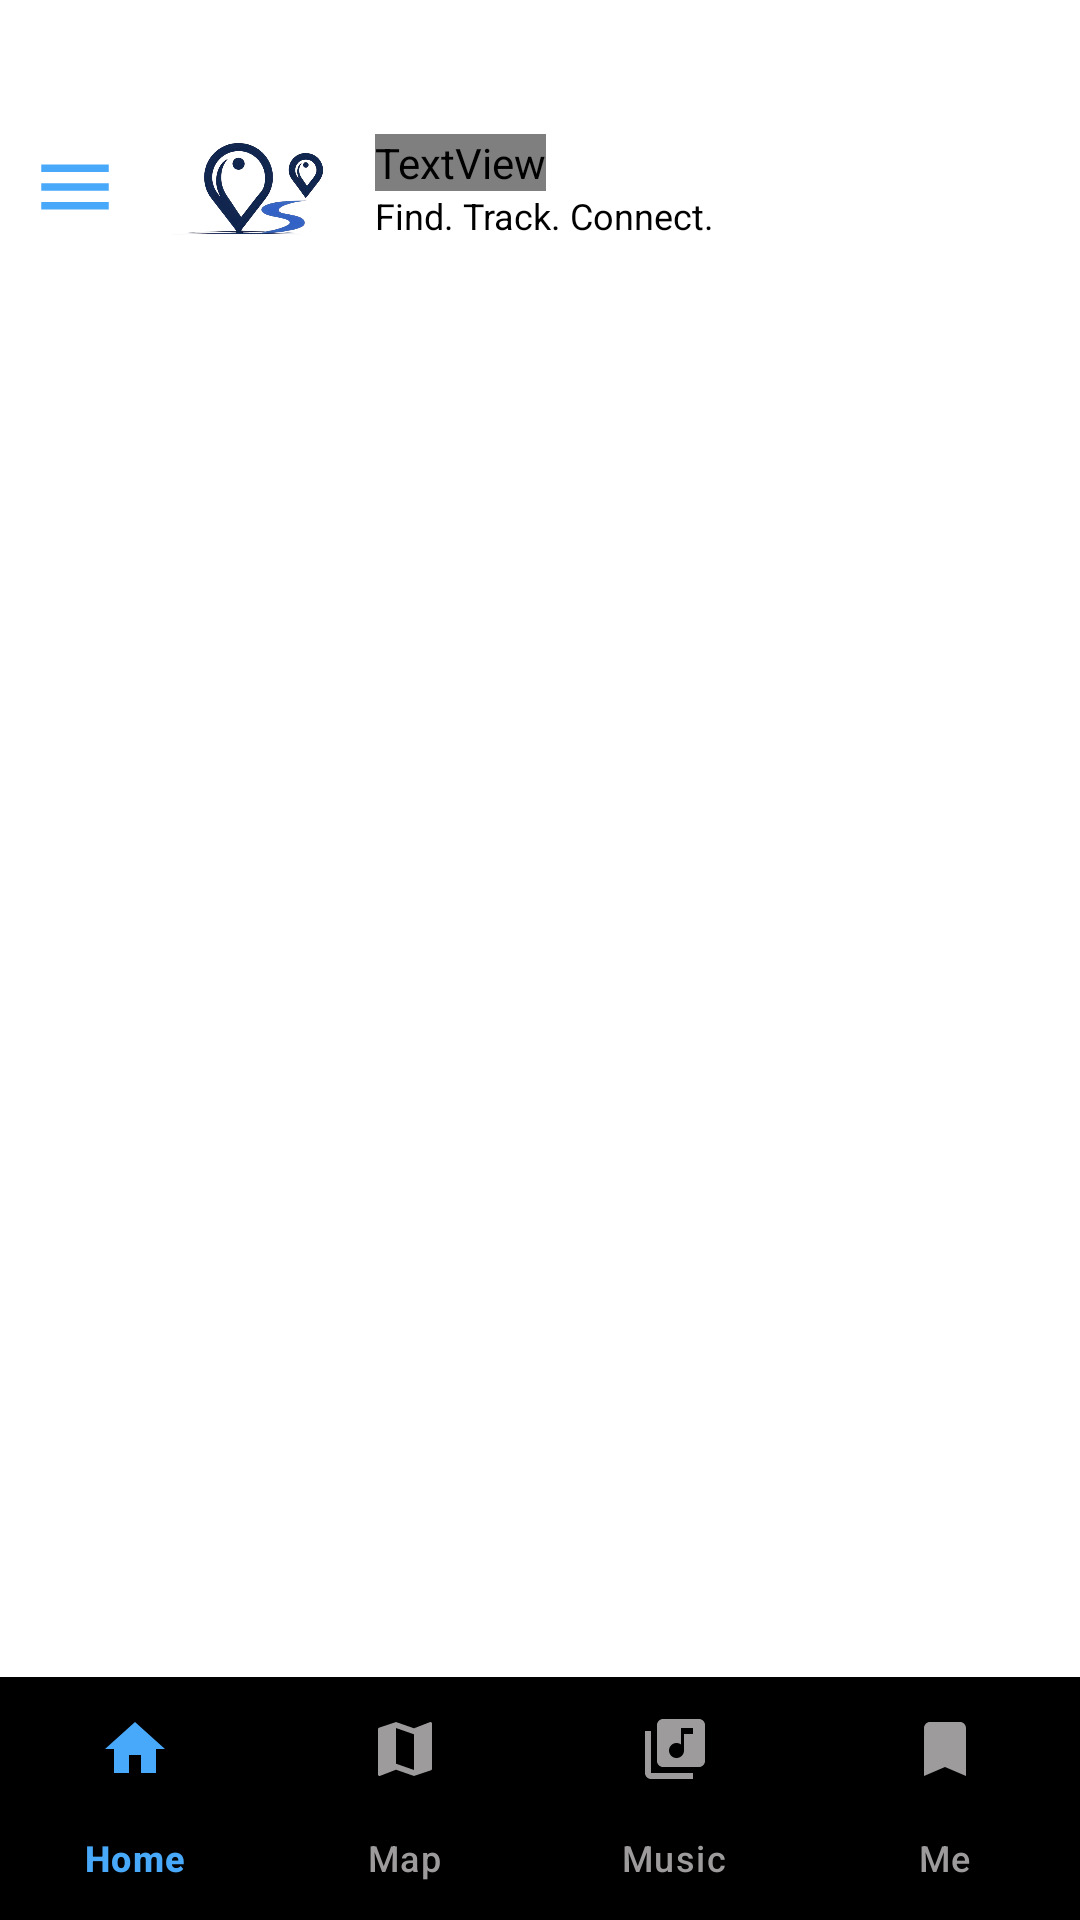

Screen size 1080*1920. Icon name, then its center in pixels as point (x, y):
locatex: point (256, 188)
menu: point (75, 187)
